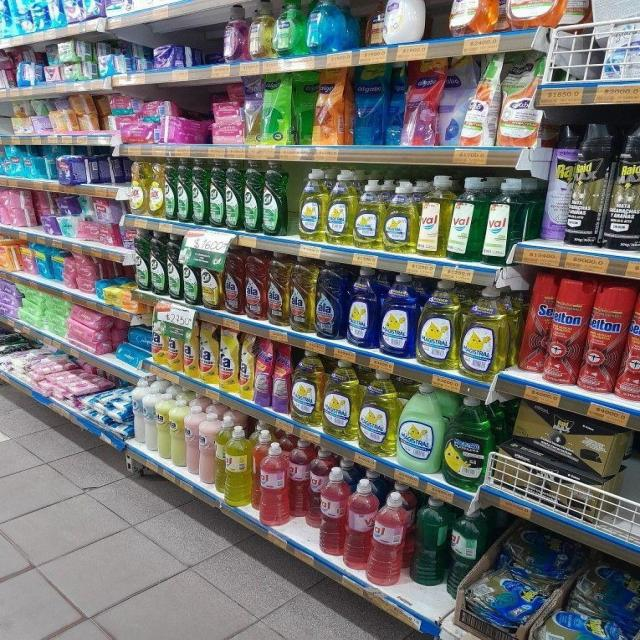ala_conc_amarillo: (290, 255, 315, 332), (267, 252, 289, 327)
ala_conc_azul: (316, 262, 345, 340)
ala_conc_rojo: (244, 248, 266, 320), (224, 247, 244, 316)
ala_crem_amarillo: (170, 398, 184, 469), (156, 394, 170, 461)
ala_crem_rosado: (198, 408, 214, 484), (186, 404, 198, 476)
ala_sachet_amarillo: (219, 328, 238, 392), (199, 323, 218, 385), (239, 332, 254, 400), (166, 319, 182, 373), (183, 321, 198, 378)
cif_conc_bot_amarilla: (200, 250, 222, 309), (149, 158, 164, 218)
cif_conc_botella_verde: (262, 160, 287, 237), (243, 160, 261, 233), (225, 158, 242, 230), (192, 158, 208, 225), (209, 158, 224, 228), (150, 230, 166, 294), (167, 234, 181, 300), (183, 248, 199, 305), (135, 230, 149, 292), (177, 157, 190, 223), (164, 158, 176, 220)
magistral_con_amarillo: (460, 287, 507, 379), (418, 279, 458, 369), (359, 370, 396, 455), (323, 359, 358, 438), (384, 180, 416, 254), (291, 351, 321, 425), (327, 169, 355, 245), (355, 178, 384, 250), (298, 168, 326, 242)
magistral_con_azul: (379, 273, 416, 358), (346, 267, 378, 349)
magistral_con_crema: (398, 383, 443, 473)
